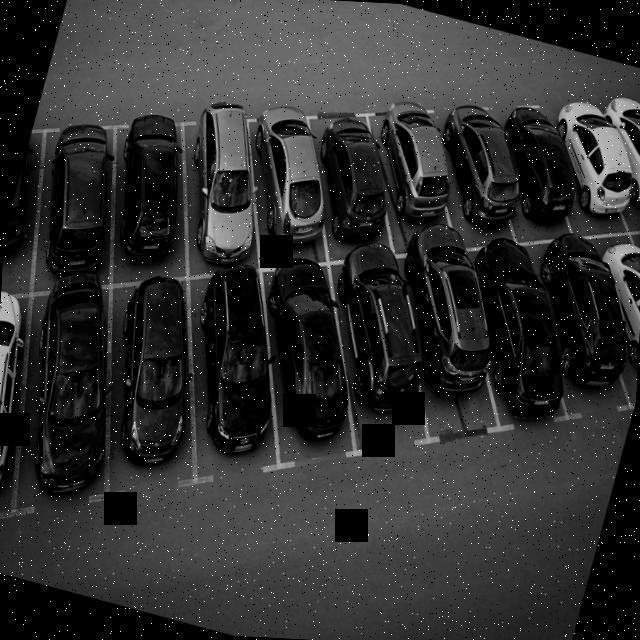car: (226, 249, 392, 469), (153, 251, 310, 476), (0, 277, 145, 511), (436, 236, 600, 439), (70, 276, 219, 488), (378, 243, 529, 448), (308, 246, 455, 451), (498, 227, 640, 426), (22, 106, 134, 296), (92, 101, 206, 286), (164, 102, 274, 274), (232, 93, 340, 265), (296, 102, 402, 256), (360, 95, 462, 252), (427, 103, 538, 245), (536, 86, 640, 226), (486, 94, 584, 241), (567, 225, 640, 395), (1, 115, 62, 302), (0, 282, 41, 549), (594, 90, 640, 226), (633, 79, 640, 200)
